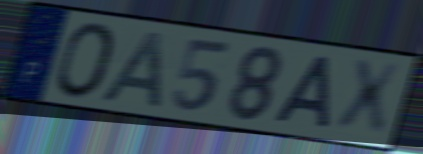5: (169, 38, 235, 113)
8: (228, 44, 284, 123)
A: (97, 28, 165, 111), (271, 53, 336, 132)
O: (54, 20, 120, 101)
X: (333, 57, 405, 139)
